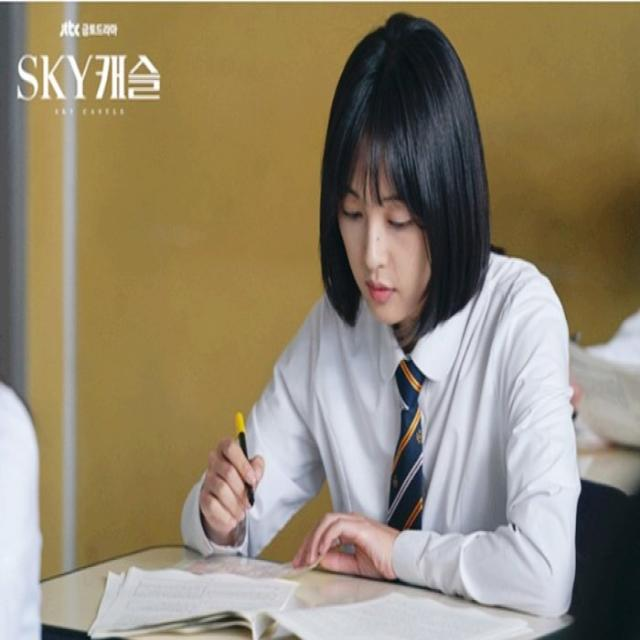studying-person: (70, 12, 585, 635)
